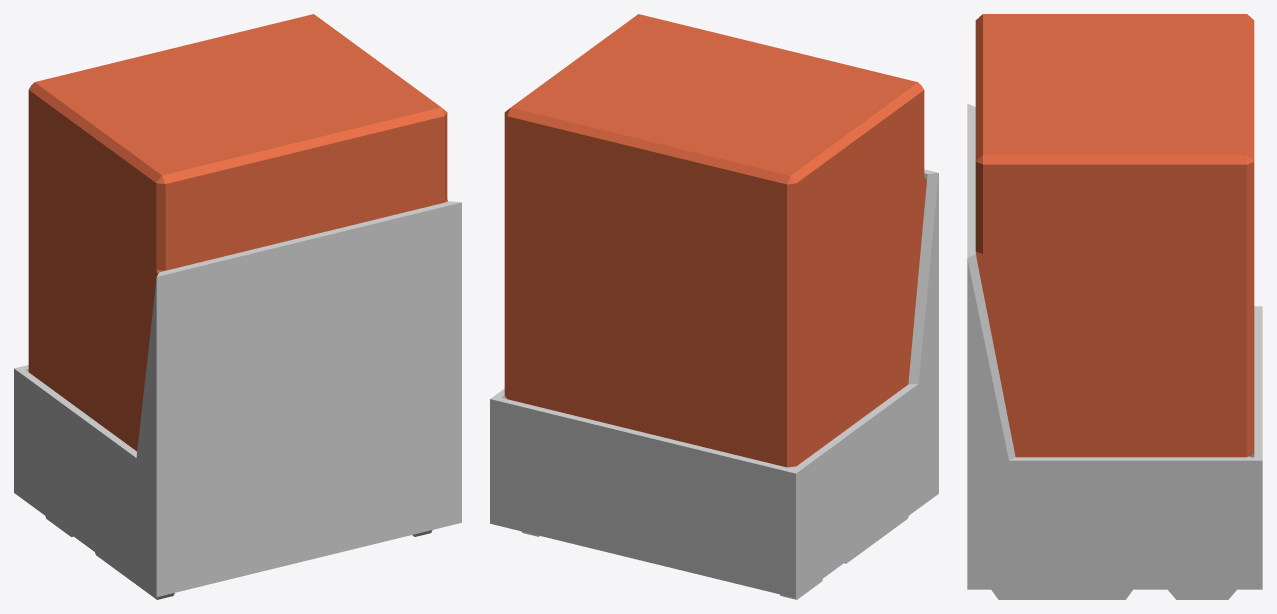
The model's file is SM_Science_3DPrinter.fbx.
3 renders of one model, left to right at view 1: azimuth 30°, elevation 25°; view 2: azimuth 150°, elevation 25°; view 3: azimuth 270°, elevation 25°, orthographic. The views are drawn at different scales.
Visible parts, largest first — view 1: SM_Science_3DPrinter, SM_Science_3DPrinterCover; view 2: SM_Science_3DPrinterCover, SM_Science_3DPrinter; view 3: SM_Science_3DPrinterCover, SM_Science_3DPrinter.
Part boxes in pixels (x1,y1,x2,y2): SM_Science_3DPrinter: (14, 201, 461, 599); SM_Science_3DPrinterCover: (28, 14, 448, 451); SM_Science_3DPrinterCover: (504, 14, 926, 467); SM_Science_3DPrinter: (490, 169, 938, 599); SM_Science_3DPrinterCover: (975, 14, 1254, 457); SM_Science_3DPrinter: (967, 103, 1262, 599).
Bounding box in the file's own units: 0.4009 × 0.5404 × 0.3243.
